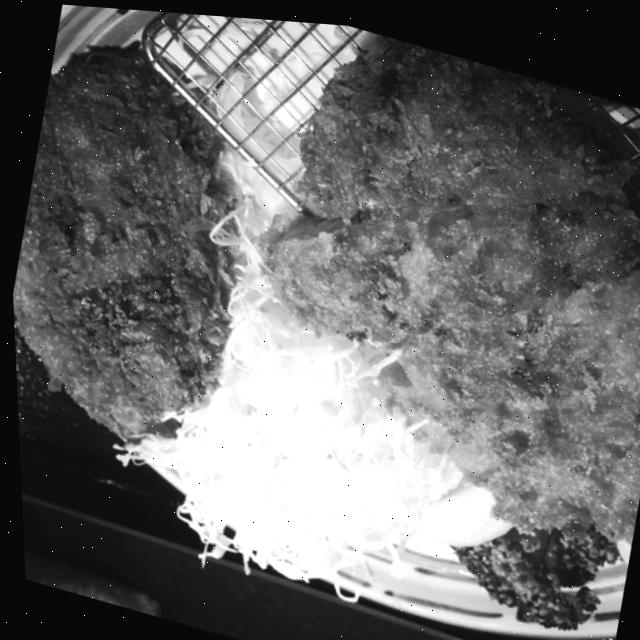牛肉菜式: (0, 0, 640, 594)
